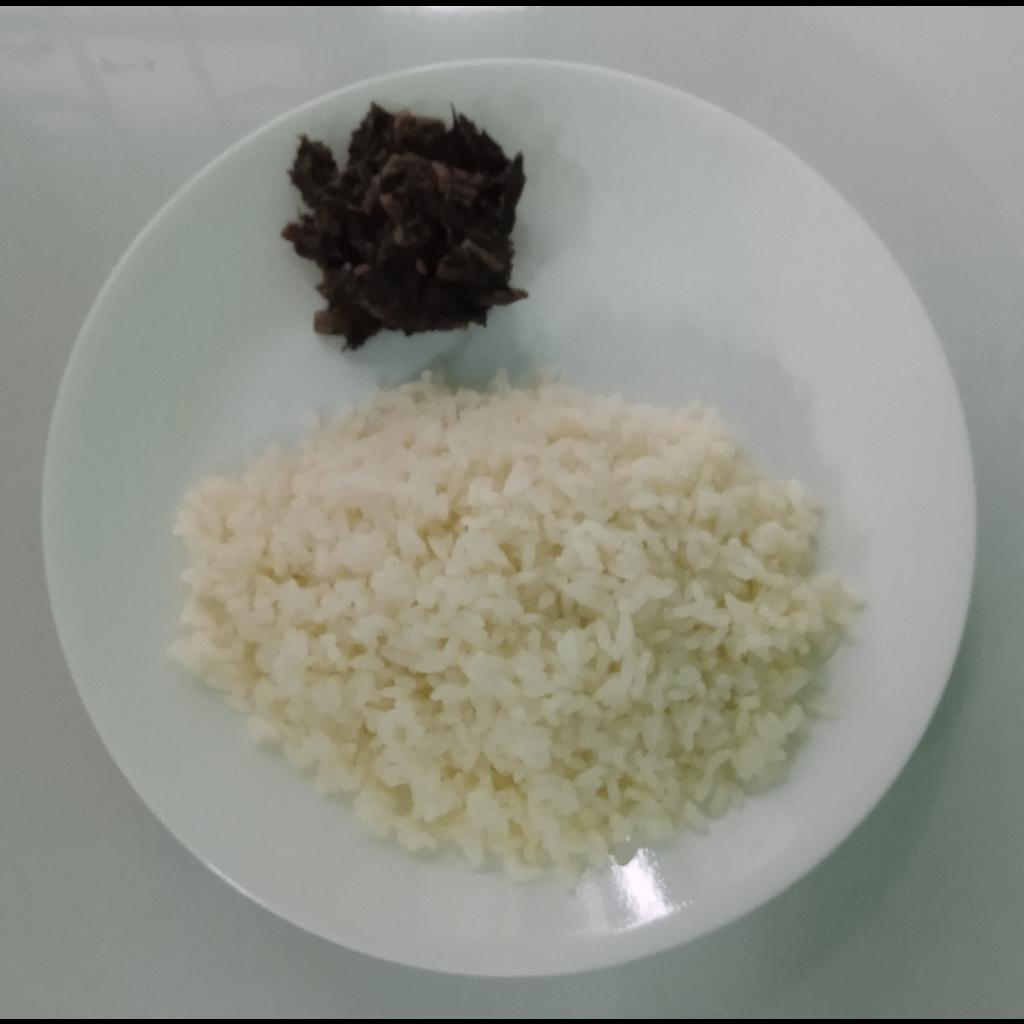lal-shak: (283, 98, 531, 354)
rice: (164, 365, 868, 886)
